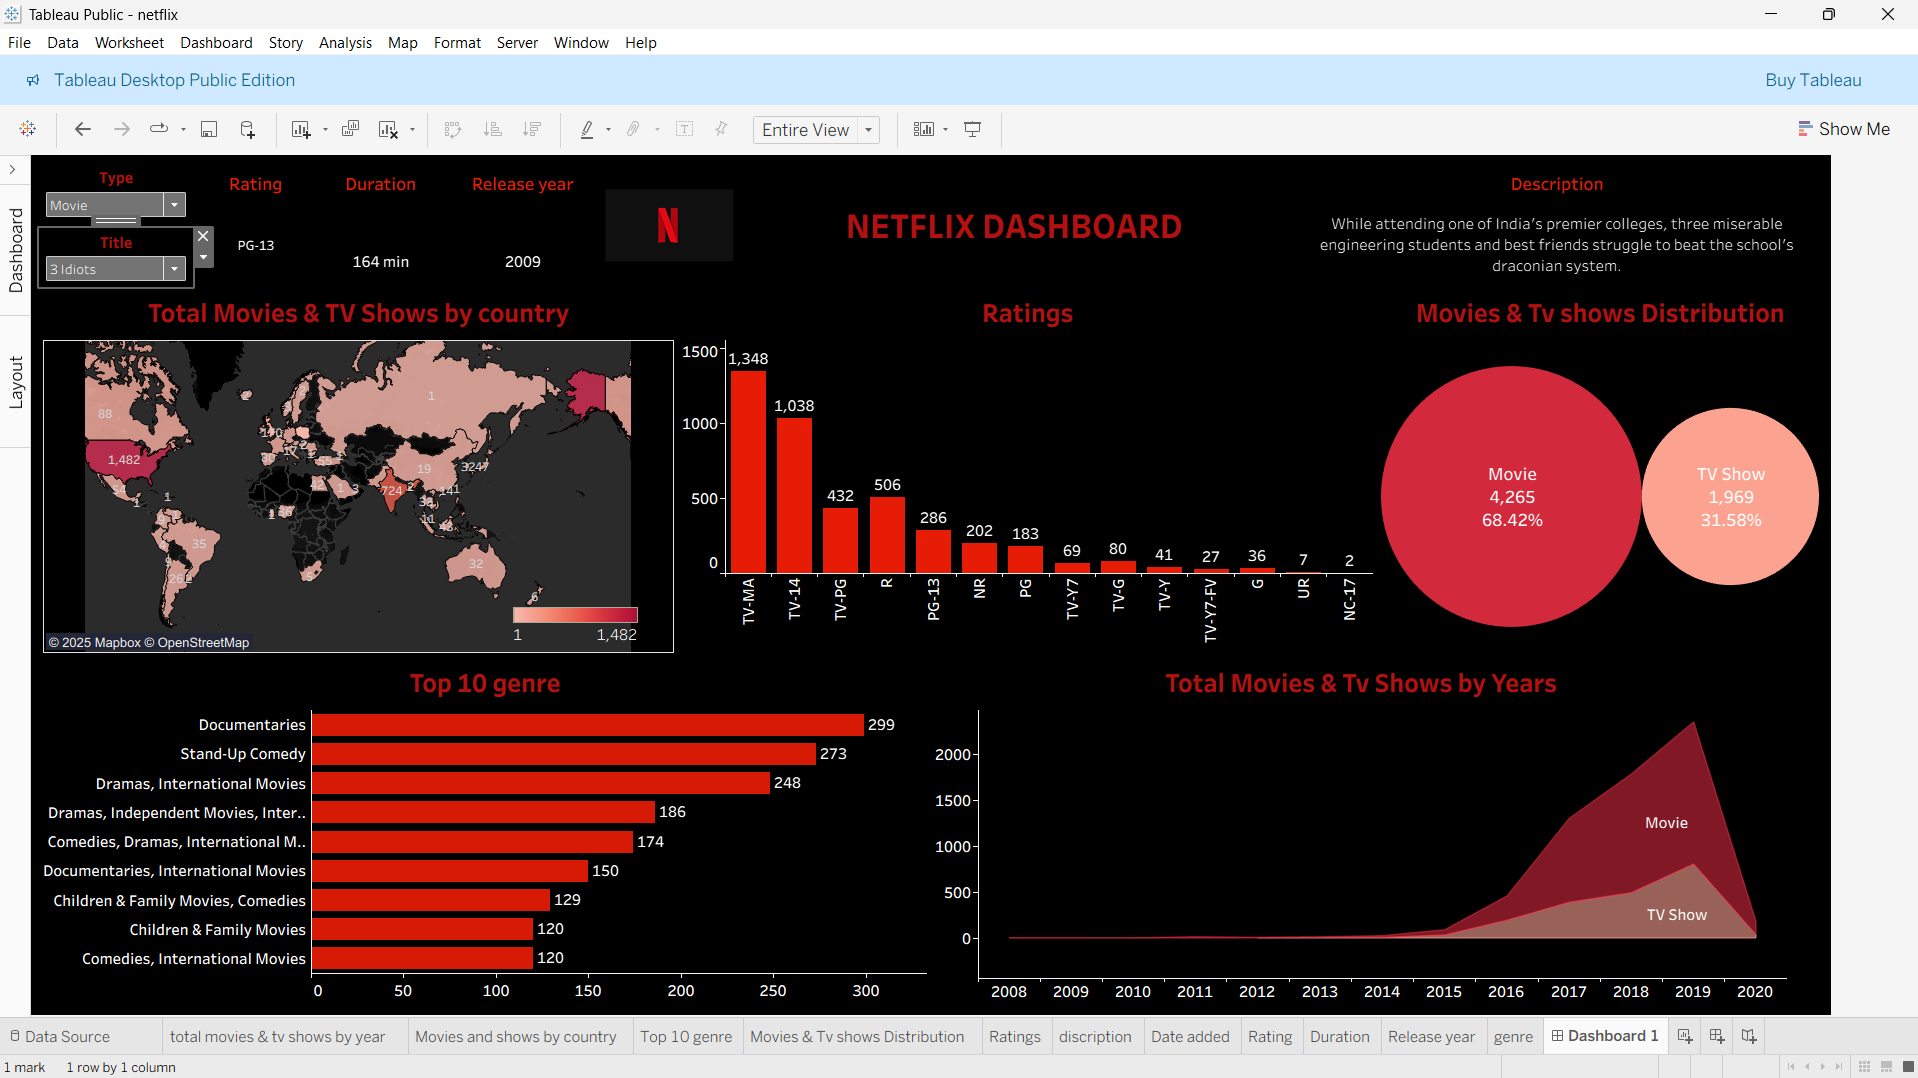

This screenshot's page, from the dashboard's own definition file:
{"tool":"tableau","page":{"name":"Dashboard 1","canvas":[1000,1000],"units":"permille","ordinal":0},"visuals":[{"type":"filter","title":"discription","param":"[federated.1g4q8bt0ggxon517qgko104e8h4i].[none:type:nk]","box":[4.4,9.5,85.4,75.4]},{"type":"worksheet","title":"Rating","mark":"Automatic","box":[89.9,9.5,69.7,144.3]},{"type":"worksheet","title":"Duration","mark":"Automatic","box":[159.6,9.5,69.7,144.3]},{"type":"worksheet","title":"Release year","mark":"Automatic","box":[229.2,9.5,87.4,144.3]},{"type":"image","param":"C:/Users/yuvar/Downloads/BrandAssets_Logos_02-NSymbol (1).jpg","box":[316.7,9.5,75.5,144.3]},{"type":"text","box":[392.2,9.5,307.8,144.3]},{"type":"worksheet","title":"discription","mark":"Automatic","box":[700,9.5,295.6,144.3]},{"type":"filter","title":"discription","param":"[federated.1g4q8bt0ggxon517qgko104e8h4i].[none:title:nk]","box":[4.4,84.9,85.4,69]},{"type":"worksheet","title":"Movies and shows by country","mark":"Multipolygon","box":[4.4,153.8,355,429.8]},{"type":"worksheet","title":"Ratings","mark":"Automatic","rows":["show_id"],"cols":["rating"],"box":[359.4,153.8,388.3,429.8]},{"type":"worksheet","title":"Movies & Tv shows Distribution","mark":"Circle","box":[747.8,153.8,247.8,429.8]},{"type":"legend","title":"Movies and shows by country","param":"[federated.1g4q8bt0ggxon517qgko104e8h4i].[ctd:show_id:qk]","box":[265.6,520.7,73.9,47.3]},{"type":"worksheet","title":"Top 10 genre","mark":"Automatic","rows":["listed_in"],"cols":["show_id"],"box":[4.4,583.6,495.5,407]},{"type":"worksheet","title":"total movies & tv shows by year ","mark":"Area","rows":["show_id"],"cols":["date_added"],"box":[499.9,583.6,477.8,407]},{"type":"image","box":[977.8,583.6,17.8,407]}]}

Visuals, with their boxes on the dashboard's canvas, which has no fixed pixel size, in thousandths of its width and height (x1, y1, x2, y2). These are canvas units, not pixel positions in the 1918x1078 screenshot, which may show the page scaled, cropped or inside an application window:
"discription" filter: (4,10,90,85)
"Rating" worksheet: (90,10,160,154)
"Duration" worksheet: (160,10,229,154)
"Release year" worksheet: (229,10,317,154)
image: (317,10,392,154)
text: (392,10,700,154)
"discription" worksheet: (700,10,996,154)
"discription" filter: (4,85,90,154)
"Movies and shows by country" worksheet (Multipolygon marks): (4,154,359,584)
"Ratings" worksheet: (359,154,748,584)
"Movies & Tv shows Distribution" worksheet (Circle marks): (748,154,996,584)
"Movies and shows by country" legend: (266,521,340,568)
"Top 10 genre" worksheet: (4,584,500,991)
"total movies & tv shows by year " worksheet (Area marks): (500,584,978,991)
image: (978,584,996,991)
